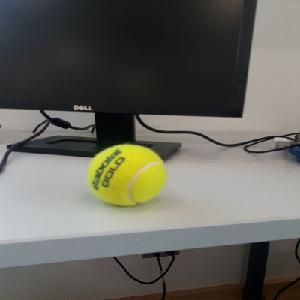Ball: (85, 142, 167, 206)
